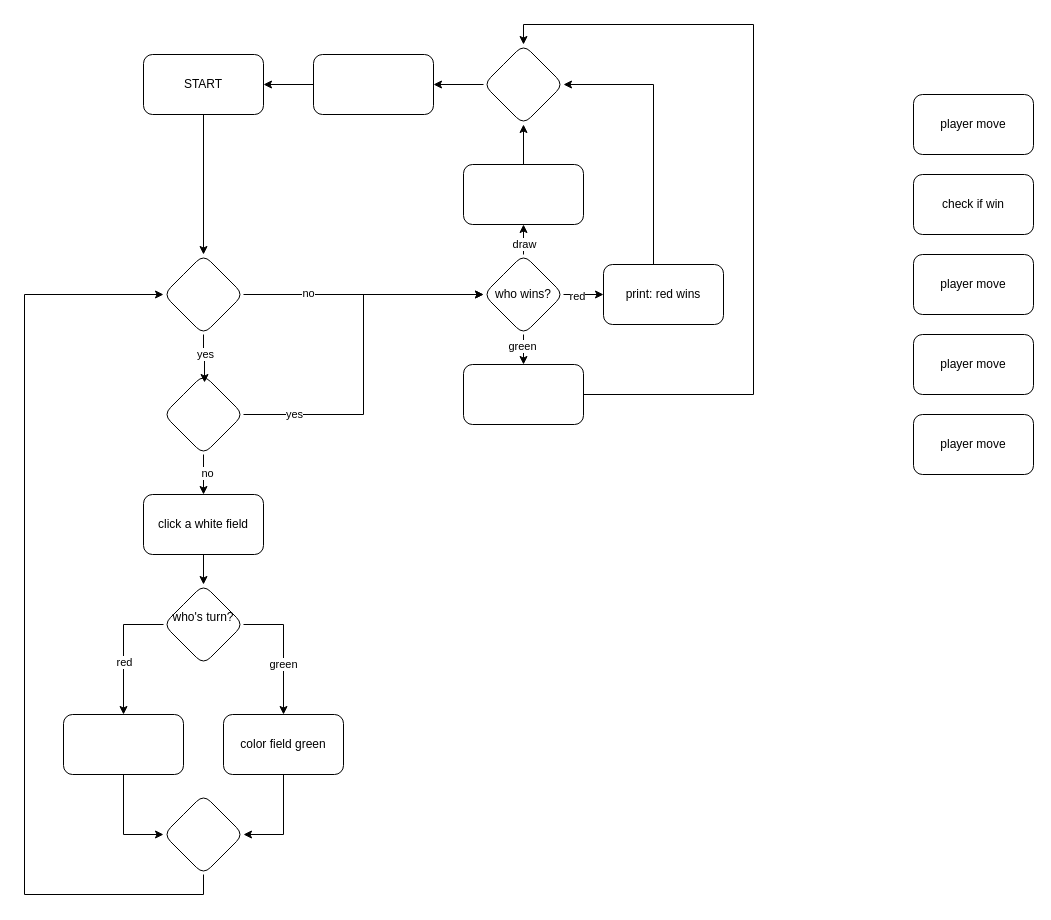
Some shapes in this 1051 by 920 pixel diagram are drawn without their labels. Here are the shapes that lost their labels. From the top down, the centre of each, then its label:
At (x=373, y=84): "click to restart".
At (x=523, y=194): "print: draw".
At (x=203, y=294): "white field exists?".
At (x=203, y=414): "someone wins?".
At (x=523, y=394): "print: green wins".
At (x=123, y=744): "color field to red".
